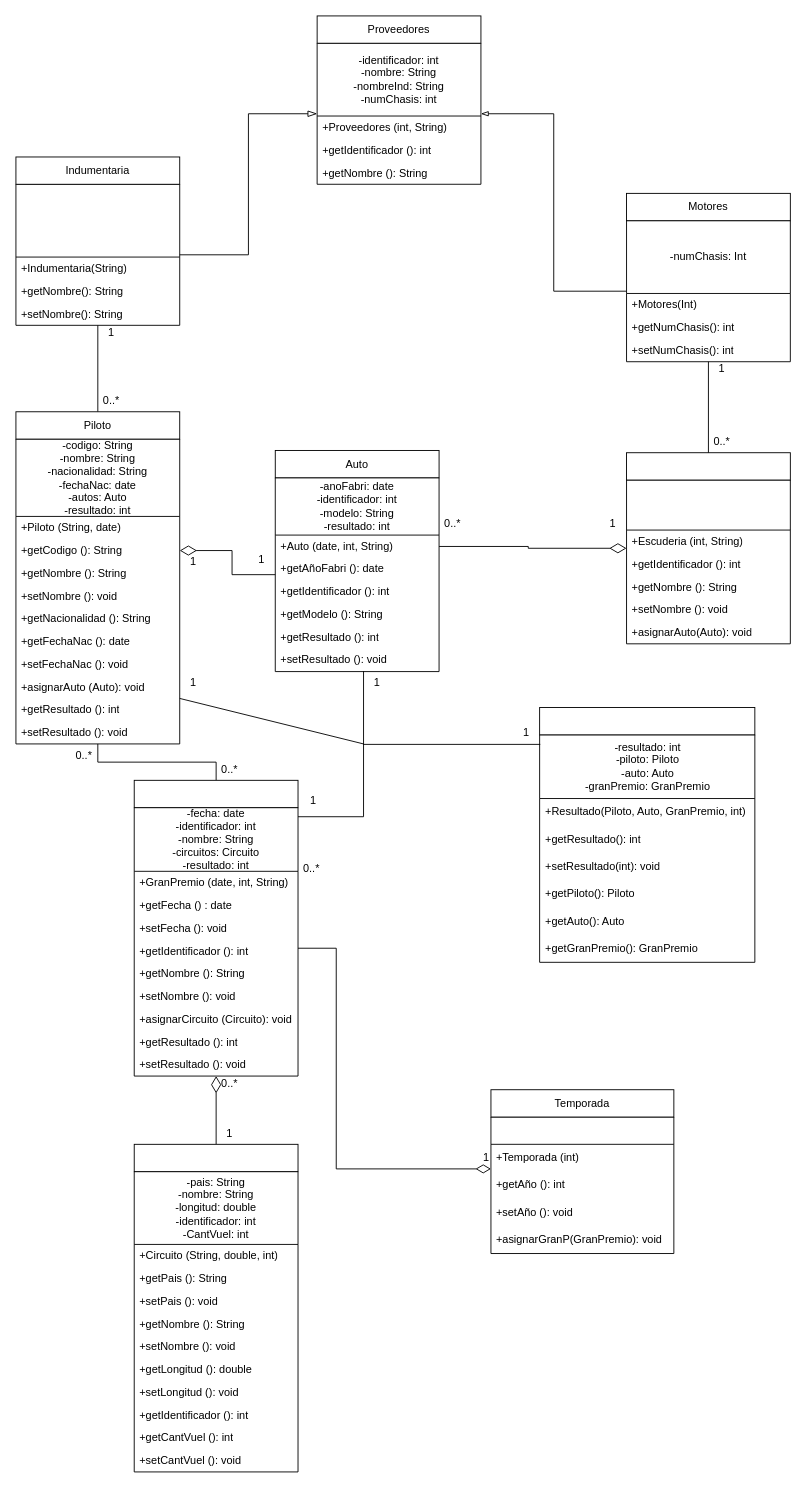
Some shapes in this 806 by 1488 pixel diagram are drawn without their labels. Each missing label, with the box of its shape:
-ano: int -GranP: GranPremio: (490, 1116, 674, 1254)
-identificador: int -nombre: String -autos: Auto: (626, 479, 790, 644)
-nombreInd: String: (15, 183, 180, 325)
Circuito: (133, 1143, 298, 1172)
Escuderia: (626, 452, 790, 480)
GranPremio: (133, 779, 298, 808)
Resultado: (539, 707, 755, 735)
